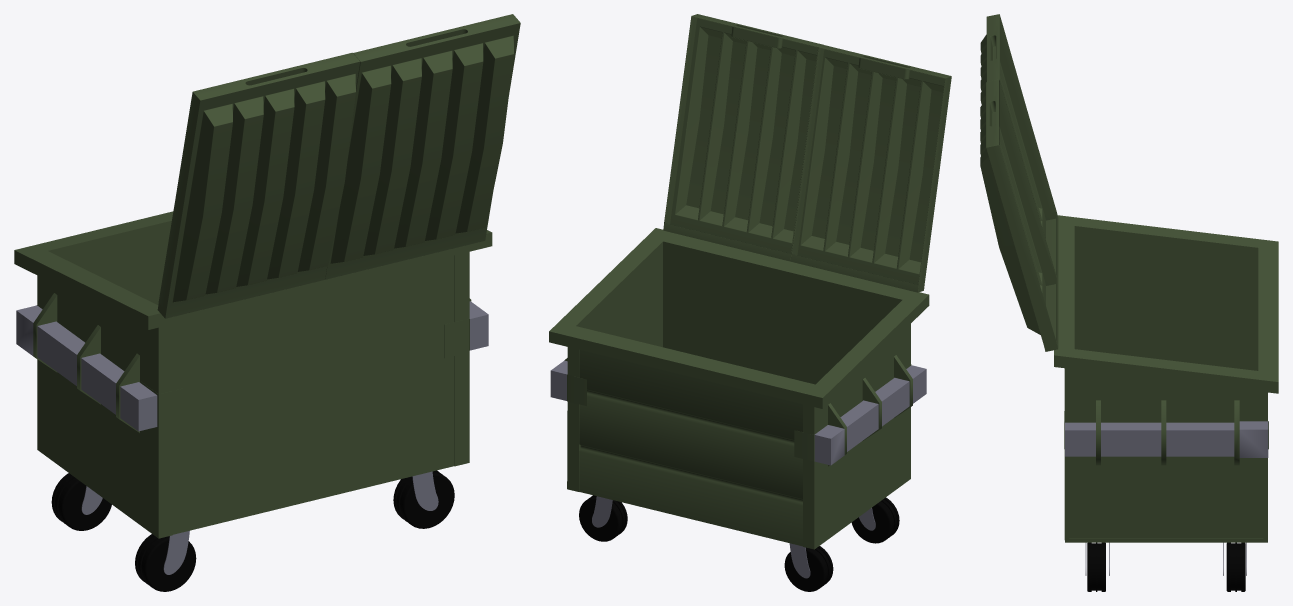
Rendered from dumpster.fbx.
The picture shows the model from 3 angles, left to right: view 1: azimuth 30°, elevation 25°; view 2: azimuth 150°, elevation 25°; view 3: azimuth 270°, elevation 25°; orthographic projection. The views are drawn at different scales.
Parts seen in each view (by area): view 1: dumpster; view 2: dumpster; view 3: dumpster.
Part boxes in pixels (x1,y1,x2,y2): dumpster: (14,14,520,591); dumpster: (549,14,951,591); dumpster: (980,14,1278,591).
Bounding box in the file's own units: 187 × 277 × 164.
